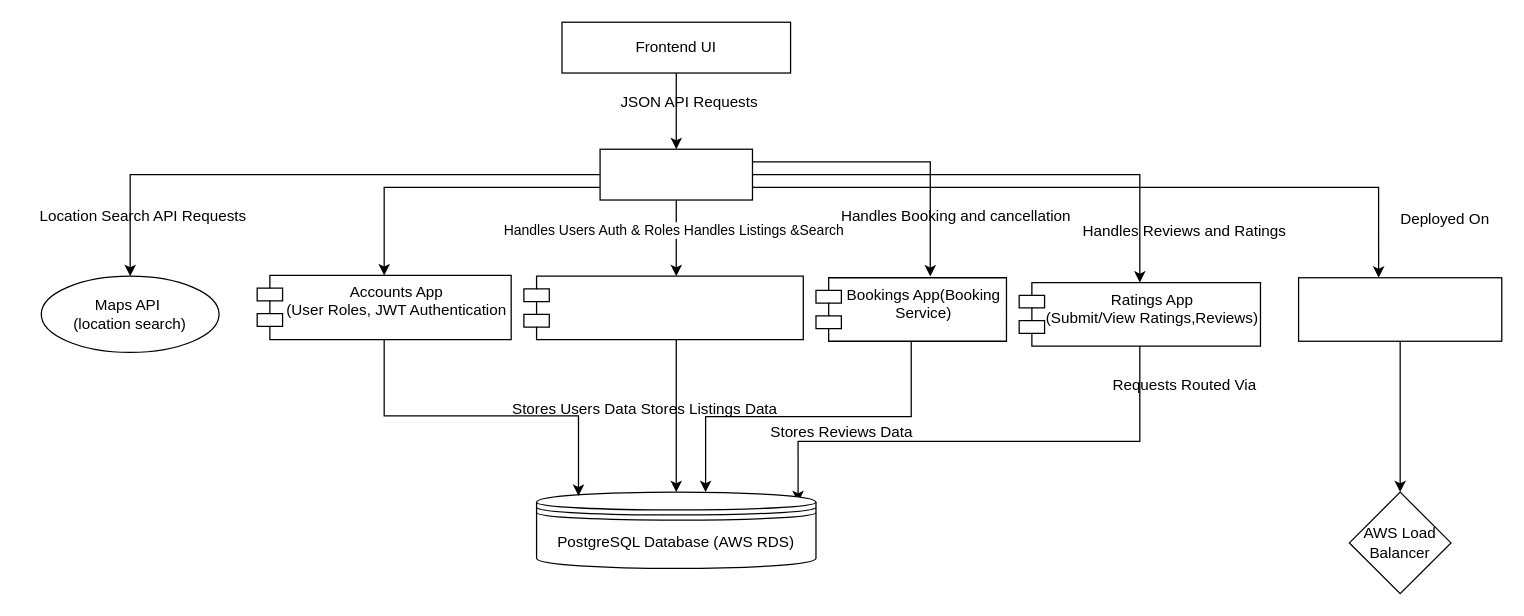
This 1524x616 diagram has some shape labels left out. The centre of each missing label's shape, as x and y in pixels:
"AWS EC2 Instances(Backend Hosting)" belongs at pixel 1399 308.
"Django Backend" belongs at pixel 675 174.
"Restaurants App(Listings, Search,Management" belongs at pixel 663 307.
